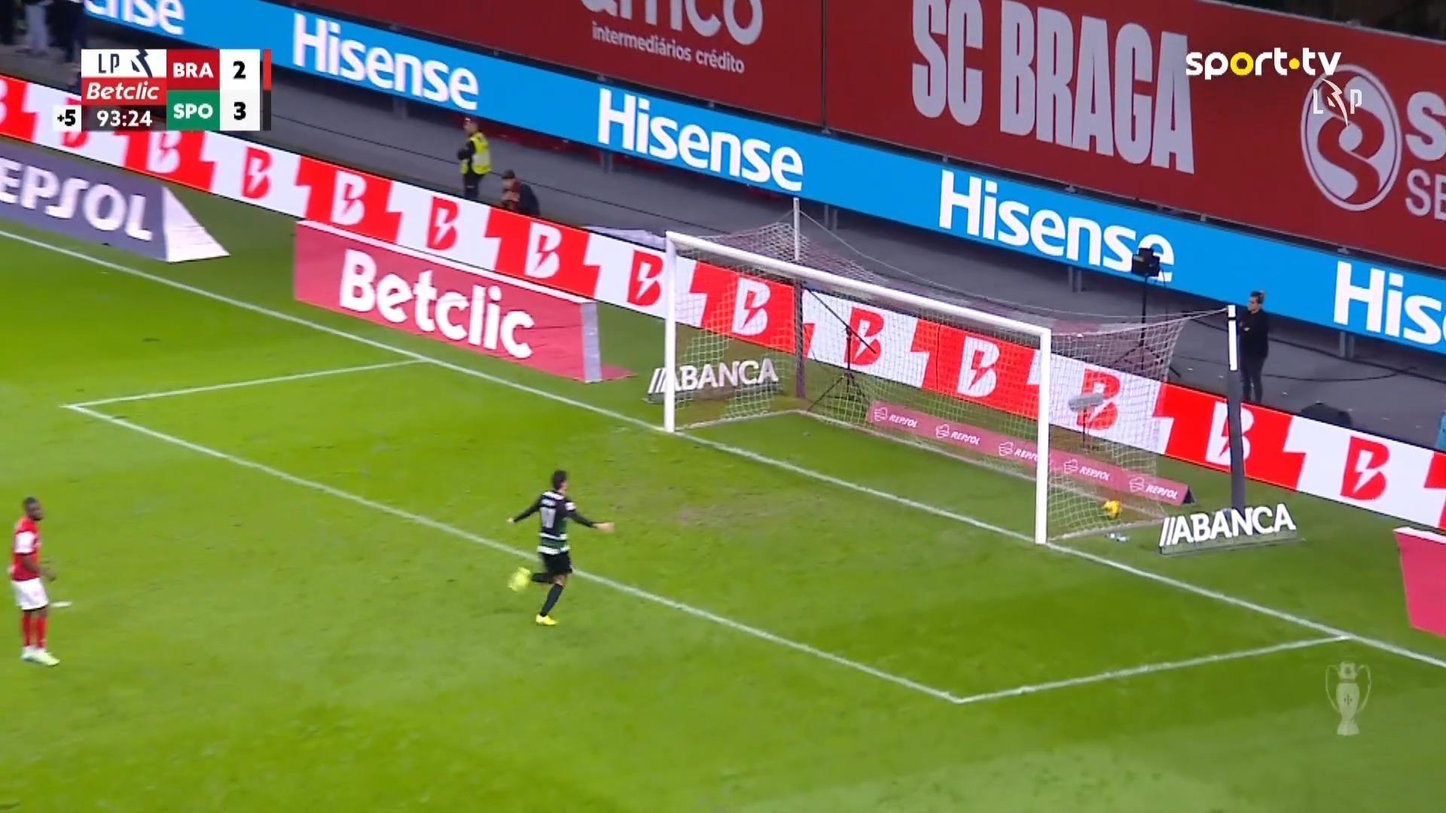ball: (1101, 498, 1120, 518)
player: (505, 467, 615, 626), (7, 495, 60, 666)
